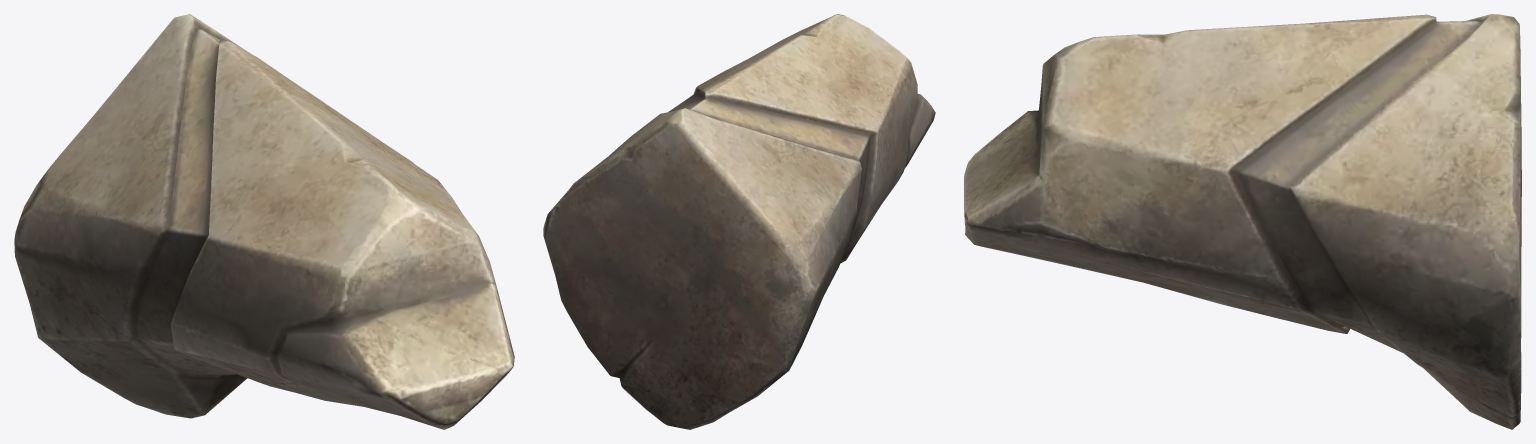
3 renders of one model, left to right at view 1: azimuth 30°, elevation 25°; view 2: azimuth 150°, elevation 25°; view 3: azimuth 270°, elevation 25°, orthographic. The views are drawn at different scales.
Visible parts, largest first — view 1: SM_Dragonkin_Gargoyles_01v3_LOD0; view 2: SM_Dragonkin_Gargoyles_01v3_LOD0; view 3: SM_Dragonkin_Gargoyles_01v3_LOD0.
Part boxes in pixels (x1=…): SM_Dragonkin_Gargoyles_01v3_LOD0: x1=14, y1=14, x2=514, y2=429; SM_Dragonkin_Gargoyles_01v3_LOD0: x1=543, y1=14, x2=935, y2=429; SM_Dragonkin_Gargoyles_01v3_LOD0: x1=964, y1=14, x2=1521, y2=429.
Size of the model in its own units: 0.8799 by 0.98 by 1.21.
1 material, 1 textured.
